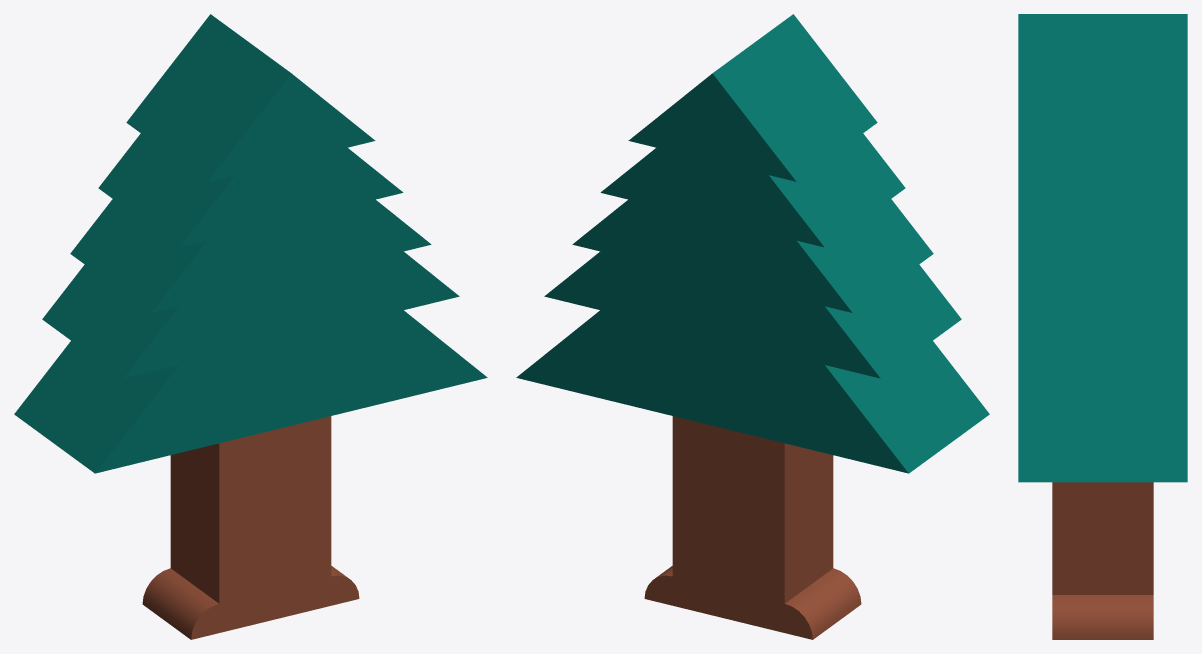
Rendered from Tree.fbx.
3 views of the same model, side by side, from view 1: azimuth 30°, elevation 25°; view 2: azimuth 150°, elevation 25°; view 3: azimuth 270°, elevation 25° (orthographic). The views are drawn at different scales.
Visible parts, largest first — view 1: generated; view 2: generated; view 3: generated.
Part boxes in pixels (bbox=[...]): generated: bbox=[14, 14, 487, 639]; generated: bbox=[516, 14, 989, 639]; generated: bbox=[1018, 14, 1187, 639].
Bounding box in the file's own units: 70 × 95 × 25.
